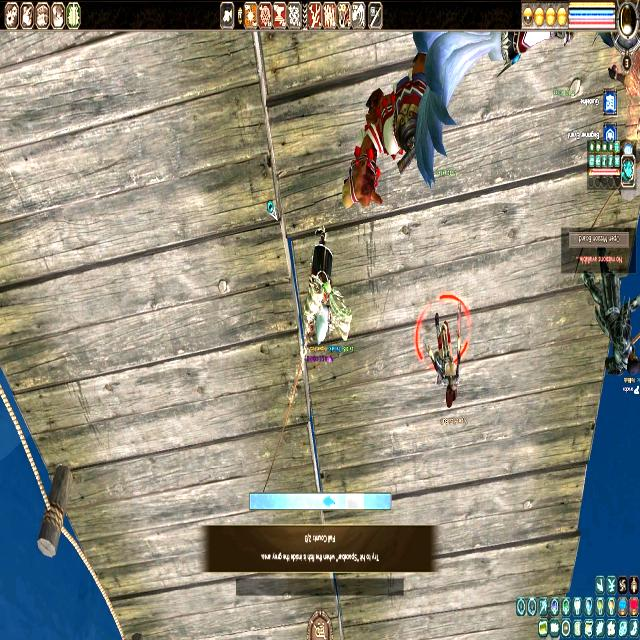fishes: (322, 494, 336, 508)
